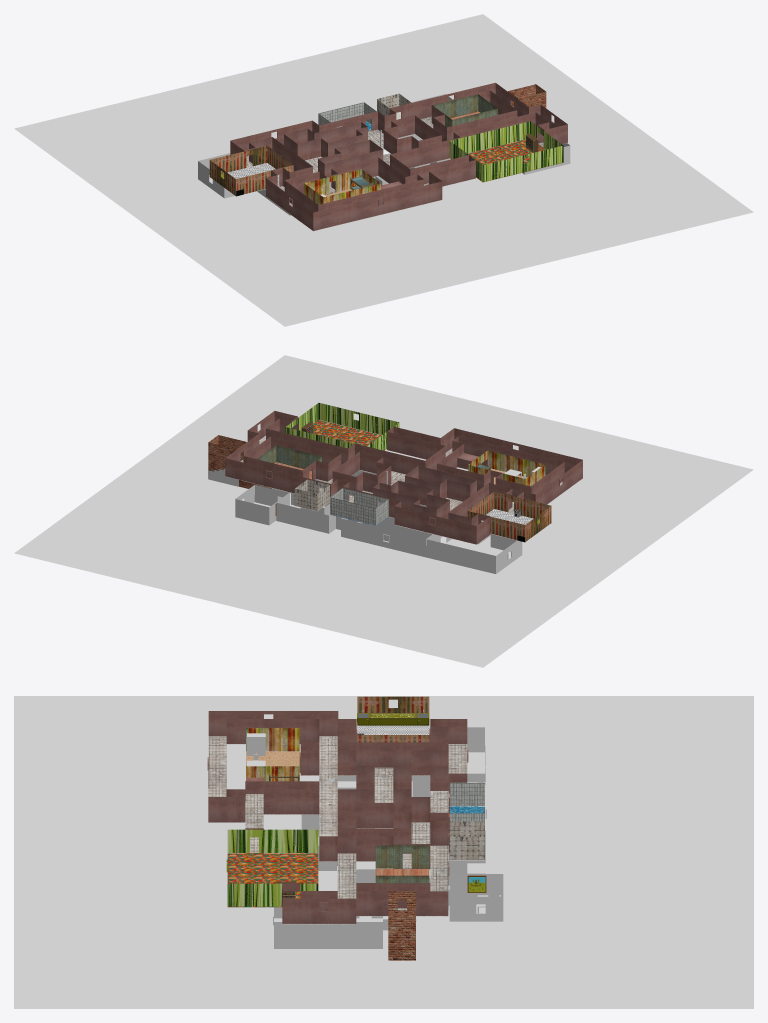
File: map1.fbx
3 renders of one model, top to bottom at view 1: azimuth 30°, elevation 25°; view 2: azimuth 150°, elevation 25°; view 3: azimuth 270°, elevation 25°, orthographic. The views are drawn at different scales.
Parts seen in each view (by area): view 1: Untitled, floor2Walls, floor2, floor1Walls; view 2: Untitled, floor2Walls, floor1Walls, floor2, floor1; view 3: Untitled, floor2Walls, floor2, floor1Walls, floor1, chiken.
Part boxes in pixels (x1=…): Untitled: x1=14, y1=14, x2=753, y2=326; floor2Walls: x1=209, y1=82, x2=567, y2=230; floor2: x1=223, y1=111, x2=566, y2=231; floor1Walls: x1=198, y1=94, x2=570, y2=215; Untitled: x1=14, y1=355, x2=753, y2=667; floor2Walls: x1=208, y1=403, x2=582, y2=544; floor1Walls: x1=235, y1=465, x2=522, y2=573; floor2: x1=226, y1=420, x2=582, y2=544; floor1: x1=253, y1=462, x2=510, y2=574; Untitled: x1=14, y1=696, x2=753, y2=1008; floor2Walls: x1=207, y1=696, x2=484, y2=960; floor2: x1=208, y1=725, x2=484, y2=924; floor1Walls: x1=273, y1=727, x2=503, y2=948; floor1: x1=274, y1=752, x2=485, y2=921; chiken: x1=357, y1=709, x2=429, y2=725.
Size of the model in its own units: 8000 by 673 by 8000.
